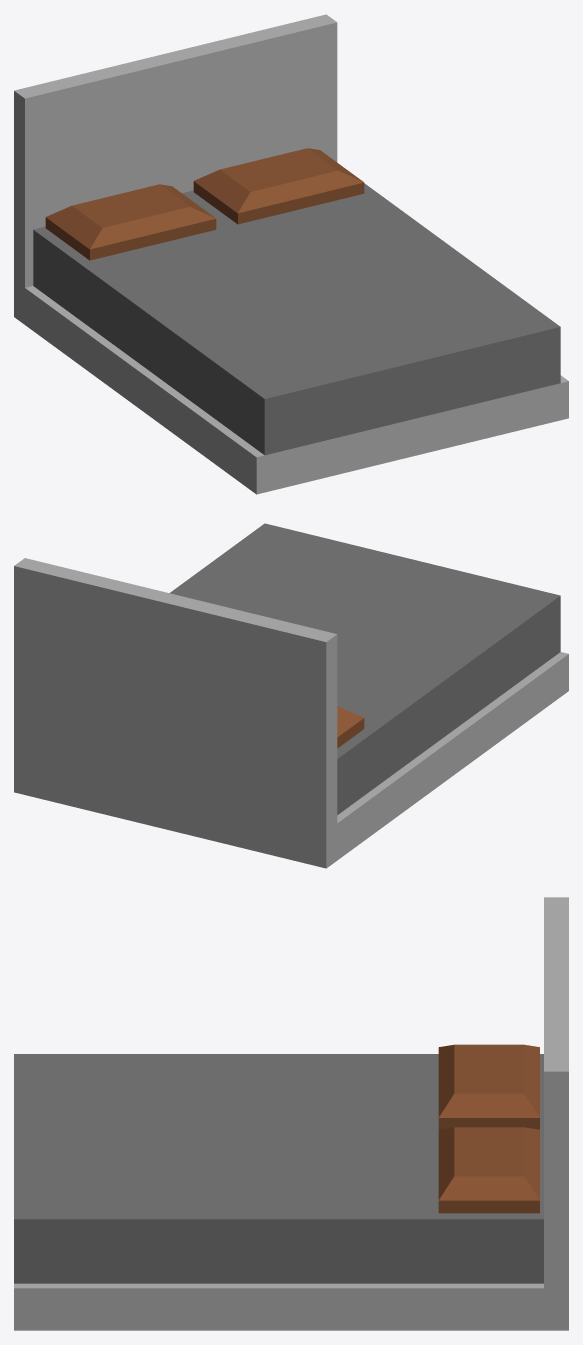
File: Bed4.fbx
3 views of the same model, one above another, from view 1: azimuth 30°, elevation 25°; view 2: azimuth 150°, elevation 25°; view 3: azimuth 270°, elevation 25° (orthographic). The views are drawn at different scales.
Parts seen in each view (by area): view 1: Cube; view 2: Cube; view 3: Cube.
Part boxes in pixels (x1,y1,x2,y2): Cube: [14, 14, 568, 494]; Cube: [14, 523, 568, 868]; Cube: [14, 897, 568, 1330].
Size of the model in its own units: 2.4 by 1.66 by 3.23.
